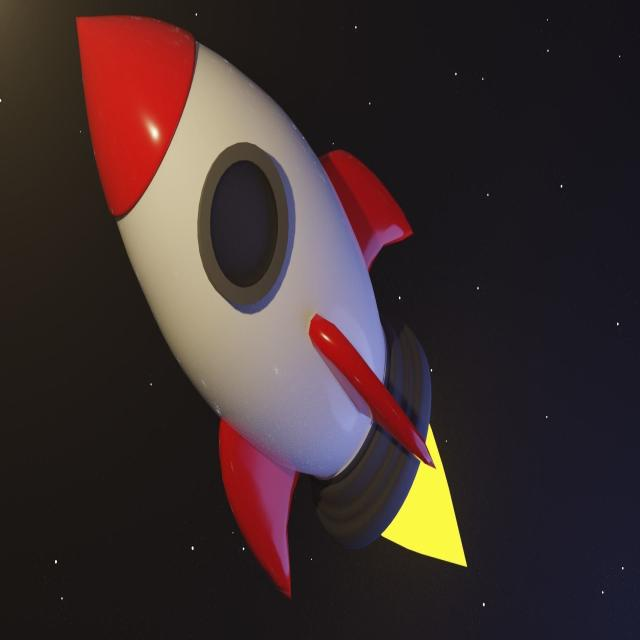rocket: (62, 6, 444, 616)
